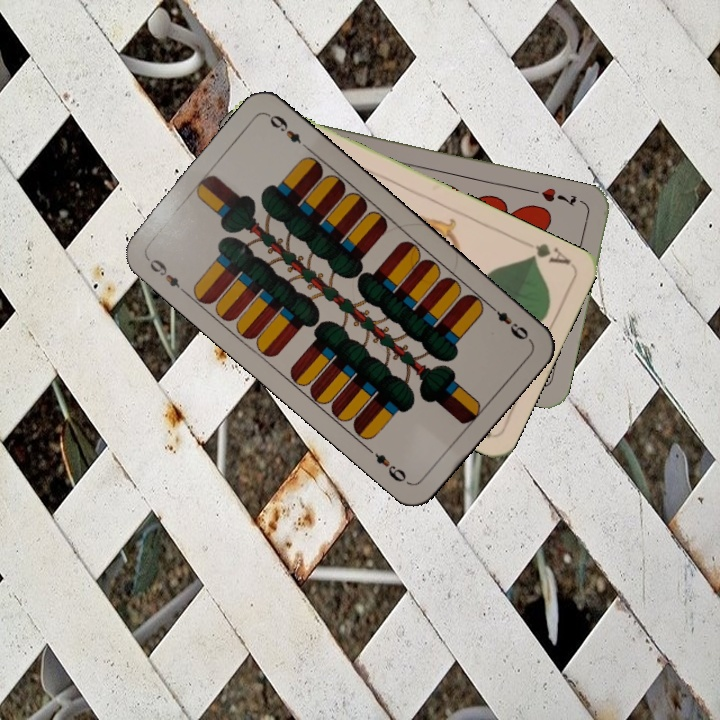E9: (142, 253, 190, 298), (485, 300, 533, 344)
GA: (524, 239, 573, 267)
H7: (537, 183, 579, 209)
